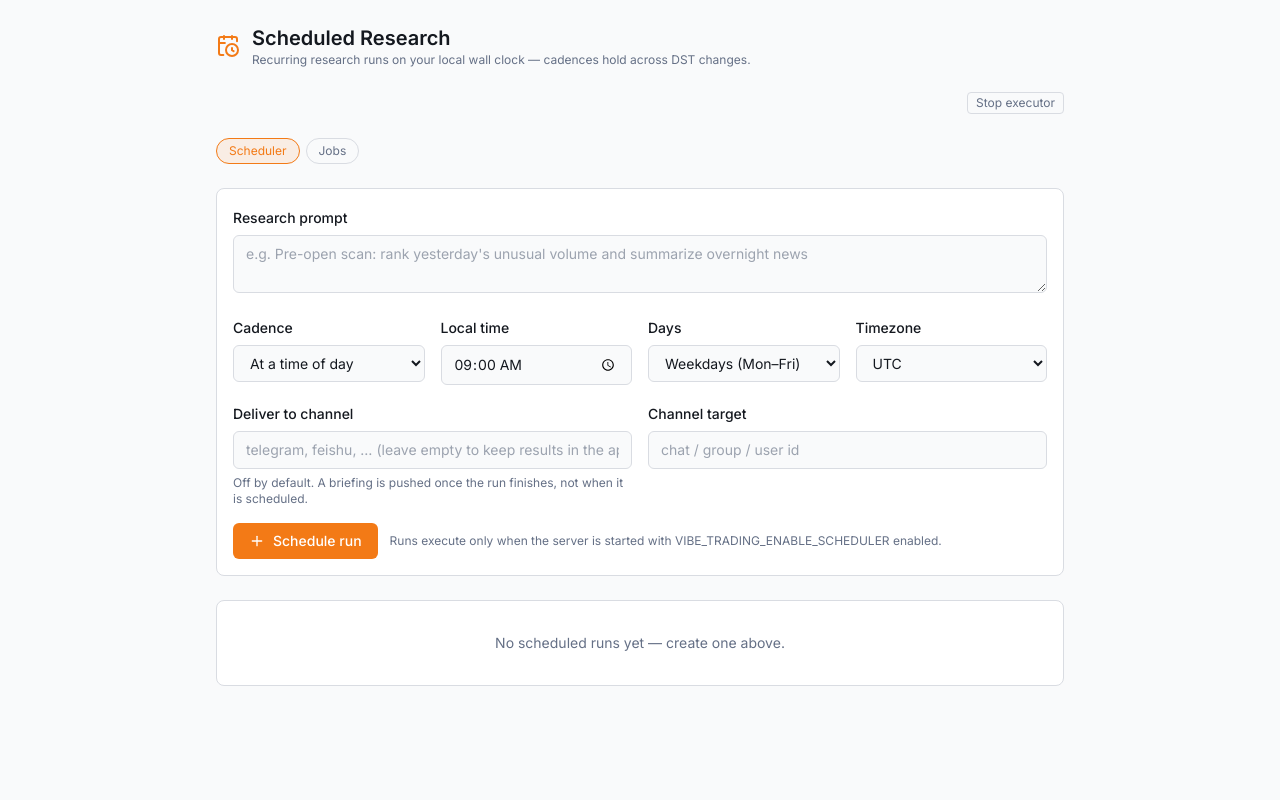
Test: Scheduled page loud states › pauses the running executor from the page after a confirmation, then re-reads its status
Click the button with test id "executor-pause".
click(1016, 103)  # box [967,92,1064,114]
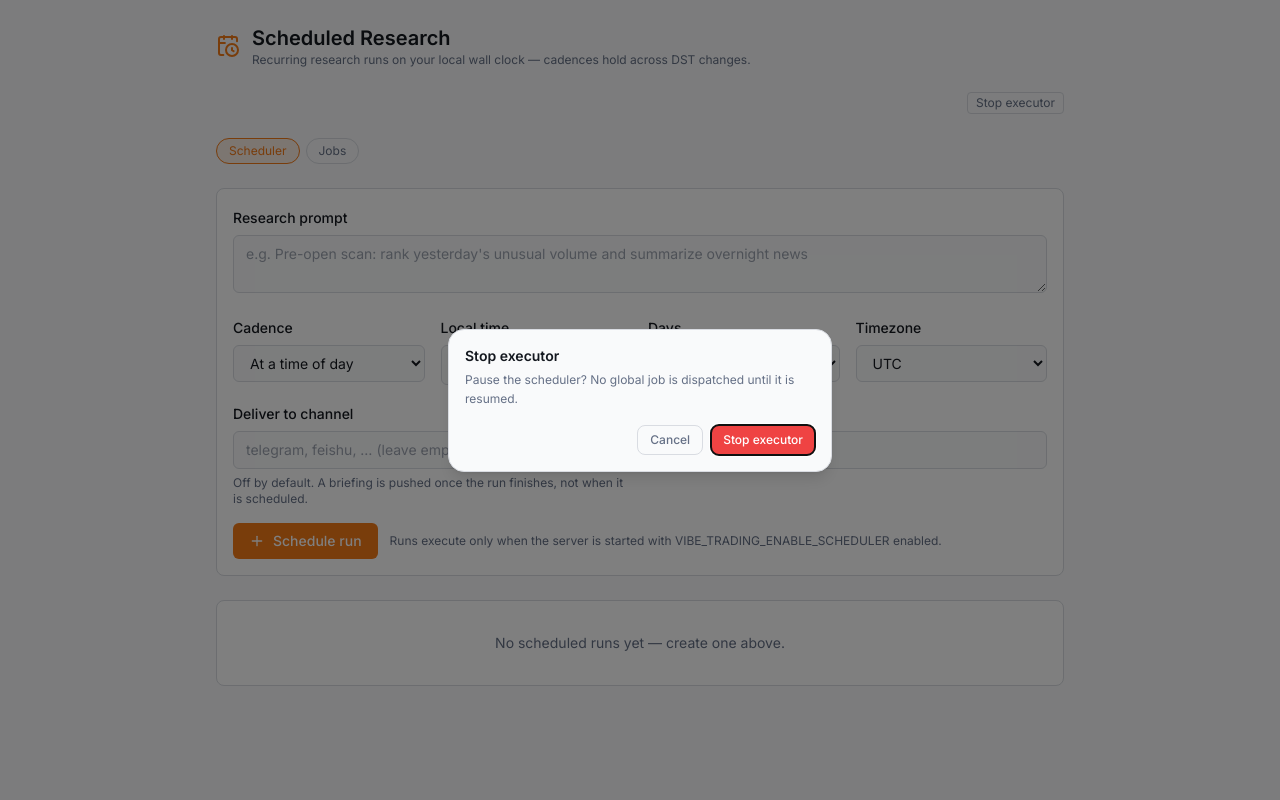
Click the button "Stop executor".
click(763, 440)  # box [711,424,815,454]
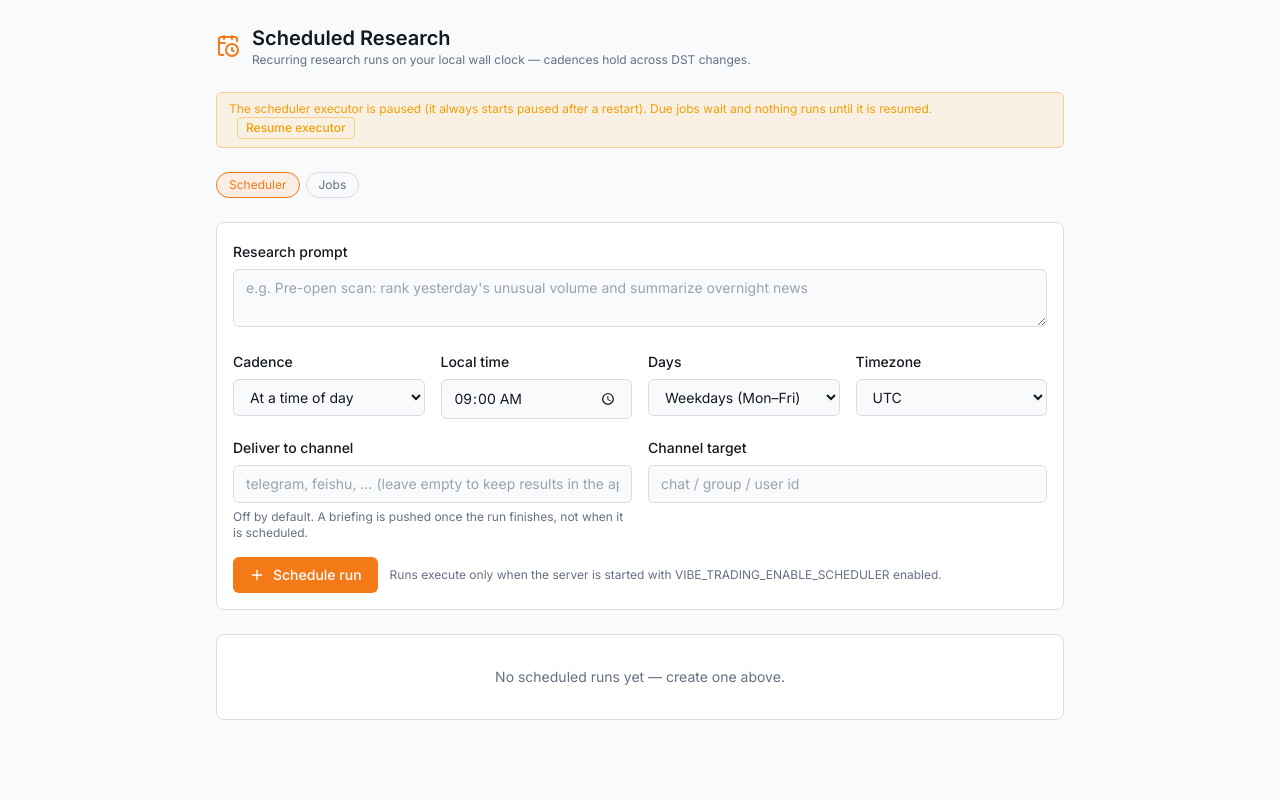
expect the message with test id "executor-banner" shows "paused": met, box [229,101,932,116]
